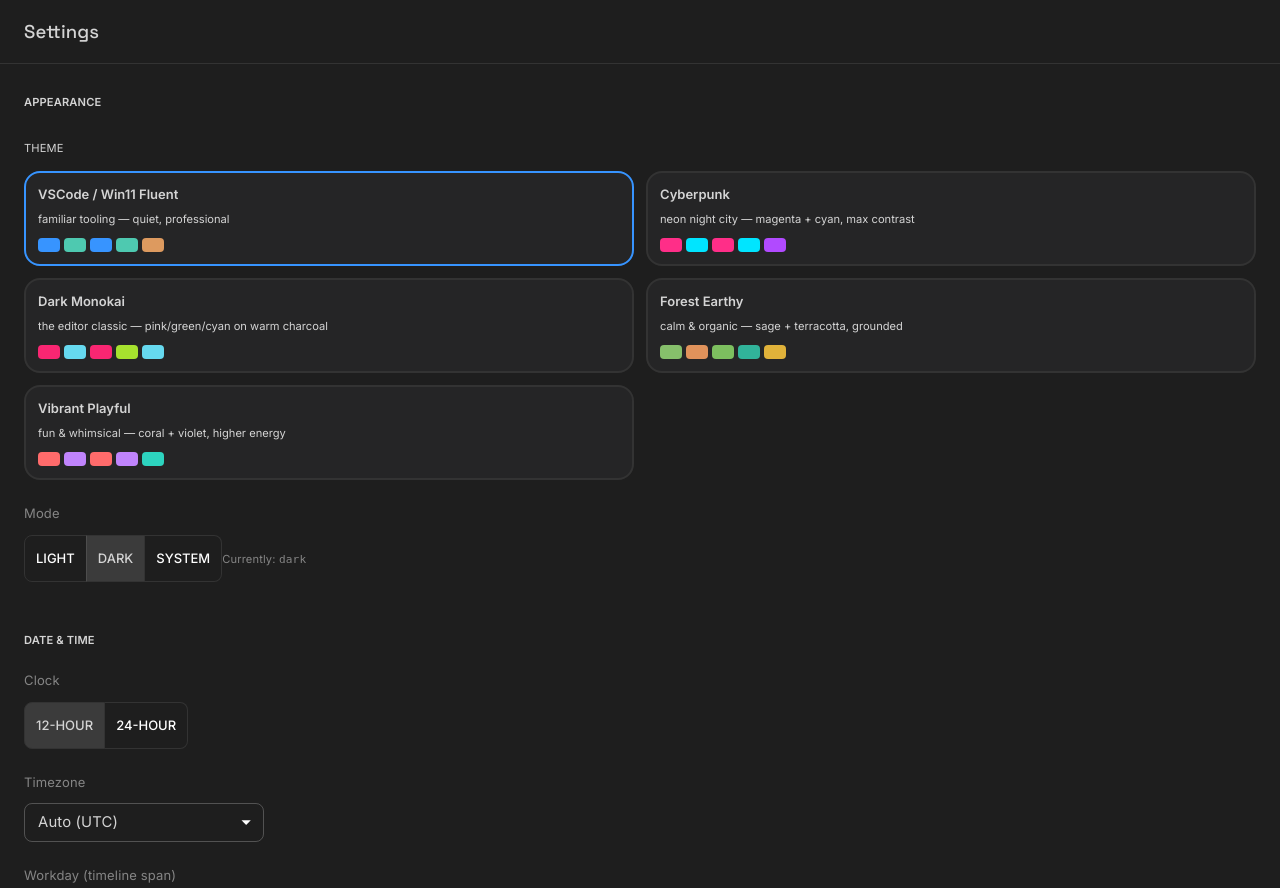
Test case: Settings view › wires theme mode selection to ea-theme localStorage
Click the button "Light".
click(55, 558)  # box x1=24 y1=535 x2=87 y2=582
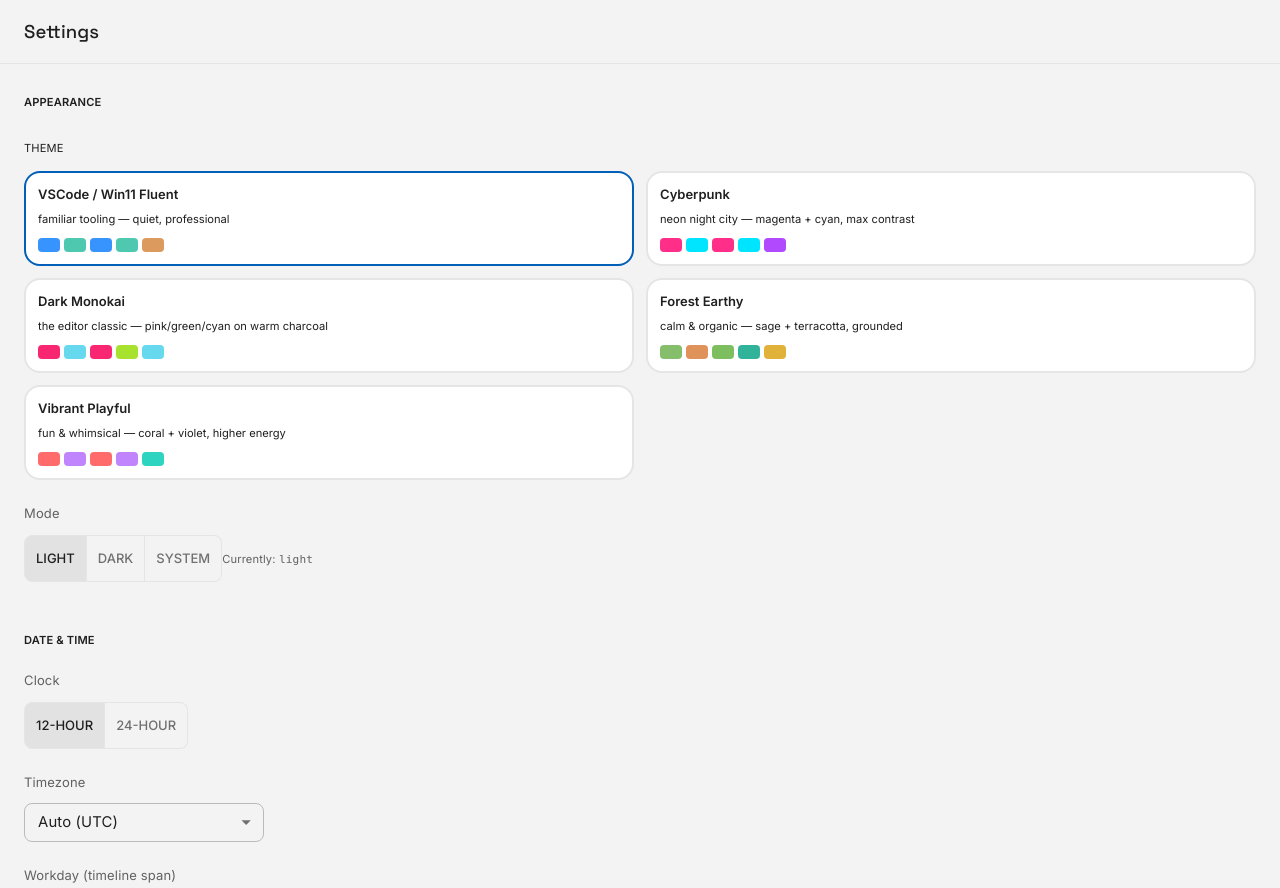
Result: the text "light" is shown at x1=279 y1=553 x2=313 y2=566
